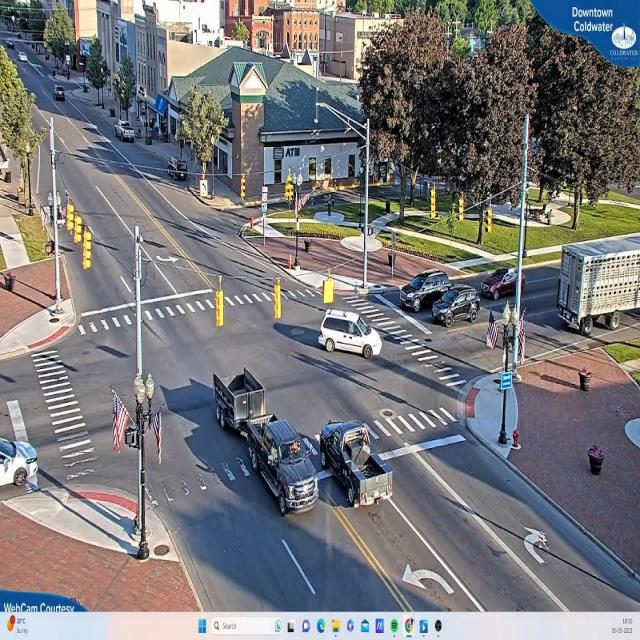car: (235, 412, 322, 516), (319, 308, 381, 361), (400, 272, 455, 313), (0, 436, 39, 489), (432, 289, 481, 327), (482, 269, 537, 302), (117, 121, 137, 145), (55, 87, 65, 100)
